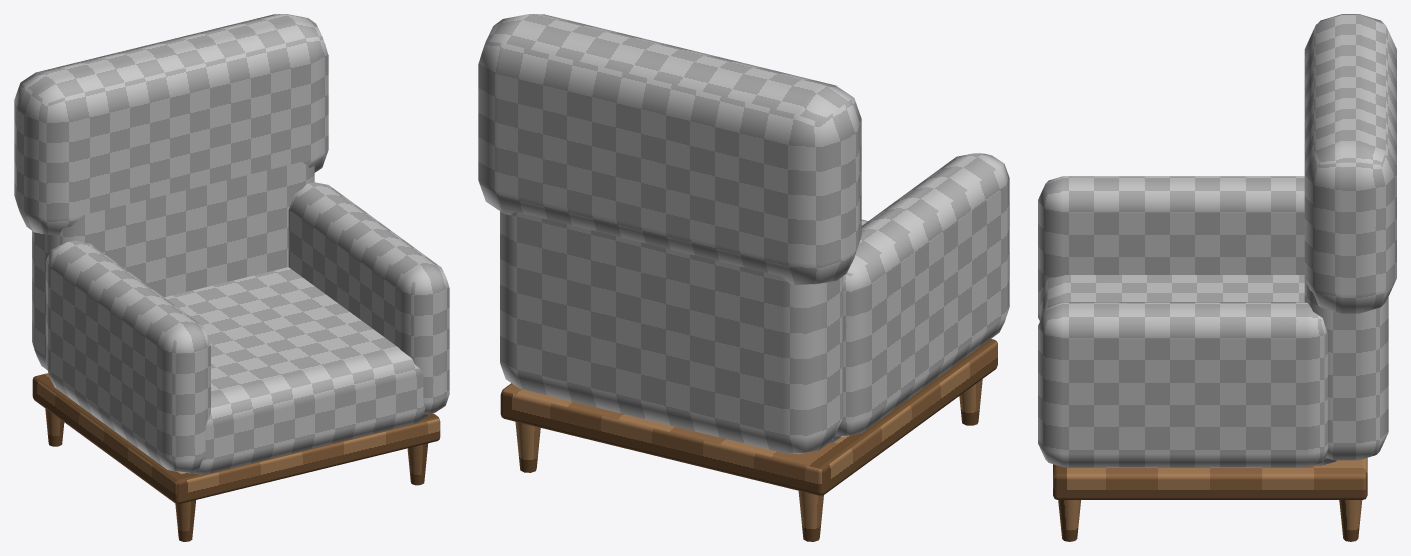
The model's file is armchair.glb.
3 renders of one model, left to right at view 1: azimuth 30°, elevation 25°; view 2: azimuth 150°, elevation 25°; view 3: azimuth 270°, elevation 25°, orthographic. The views are drawn at different scales.
Parts seen in each view (by area): view 1: dyn_velvet_variant, dyn_wood_variant; view 2: dyn_velvet_variant, dyn_wood_variant; view 3: dyn_velvet_variant, dyn_wood_variant.
Boxes of the visible parts, x1,y1,x2,y2 form: dyn_velvet_variant: (14,14,449,474); dyn_wood_variant: (32,373,440,541); dyn_velvet_variant: (478,14,1009,453); dyn_wood_variant: (500,339,997,541); dyn_velvet_variant: (1038,14,1396,467); dyn_wood_variant: (1053,458,1367,541).
Bounding box in the file's own units: 0.8907 × 1.05 × 0.8555.
Materials: 2 (2 with a texture image).
